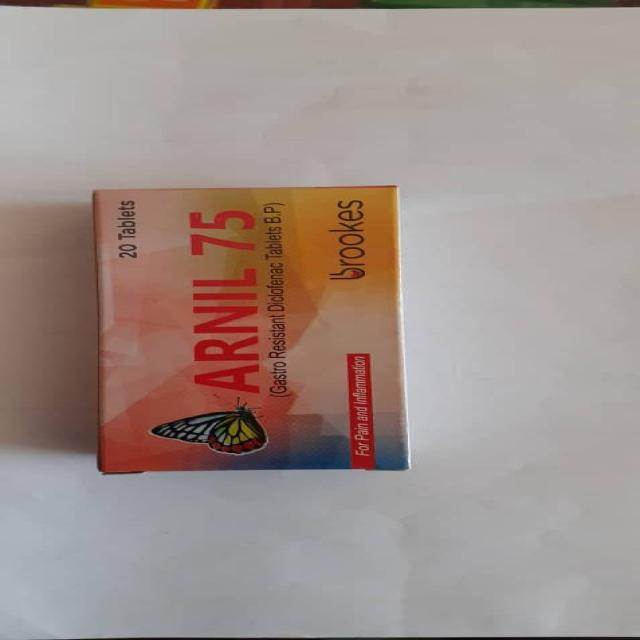drug-name: (188, 204, 262, 398)
